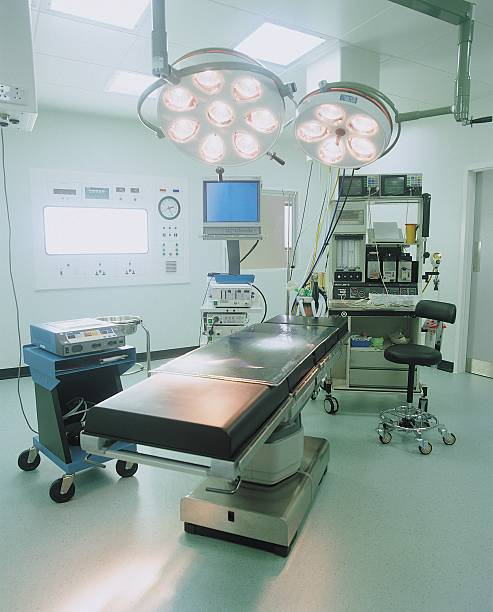bedside_monitor: (199, 179, 263, 242), (381, 174, 423, 198), (336, 174, 375, 198)
breathing_tube: (297, 292, 330, 318)
chair: (376, 300, 457, 454)
electrosurgical_unit: (29, 317, 126, 356)
operating_bed: (80, 315, 351, 558)
surgical_light: (157, 49, 286, 168), (297, 83, 391, 167)
